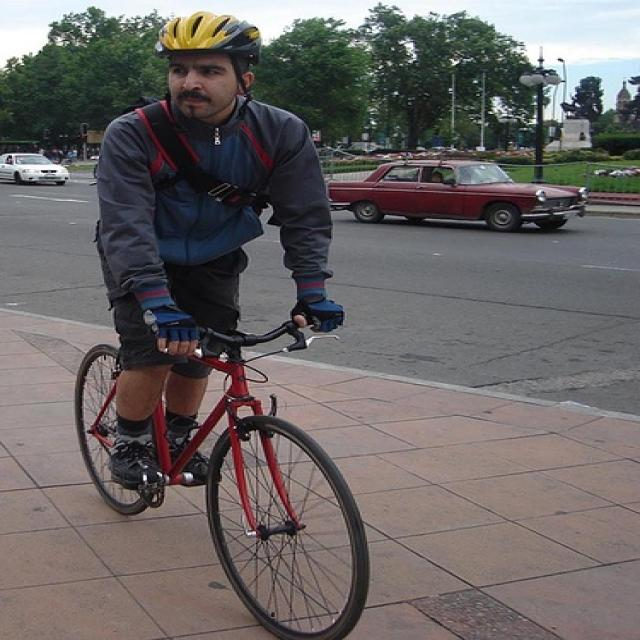bicycle: (72, 307, 370, 639)
car: (326, 159, 589, 234), (0, 153, 72, 187)
